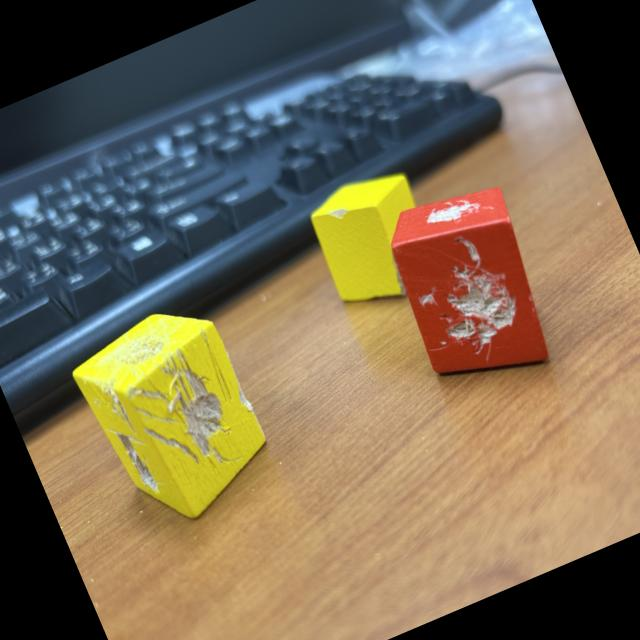broken: (62, 290, 286, 541), (371, 171, 571, 404), (300, 160, 450, 321)
